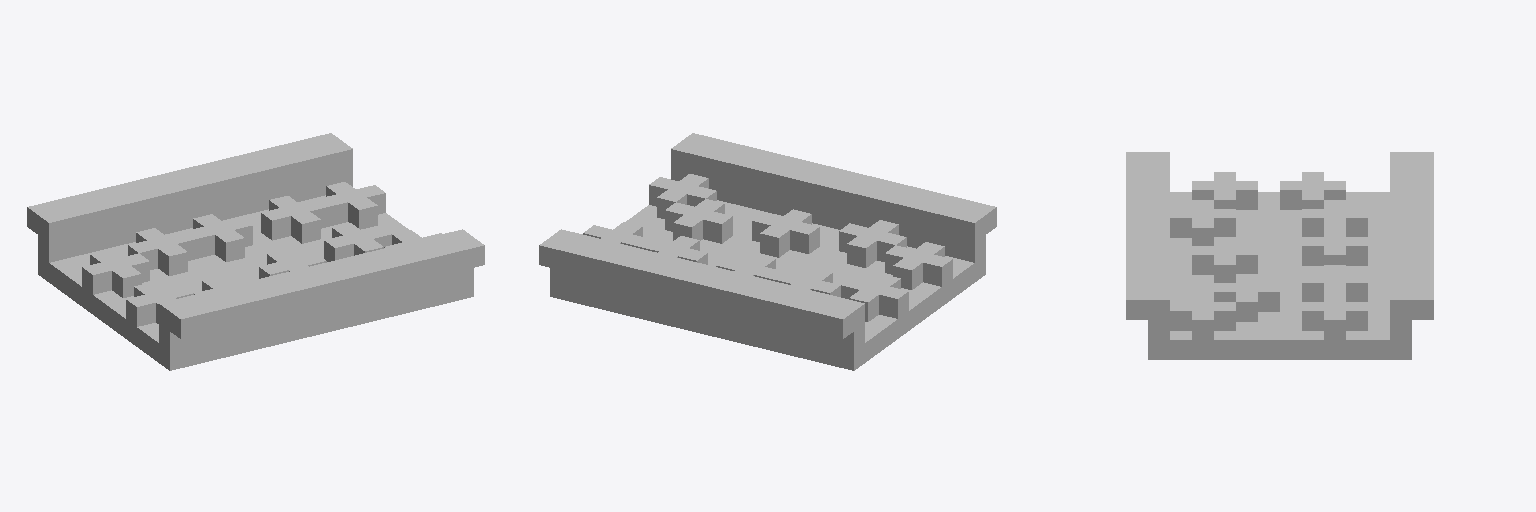
Rendered from Plants_Middle.obj.
3 renders of one model, left to right at view 1: azimuth 30°, elevation 25°; view 2: azimuth 150°, elevation 25°; view 3: azimuth 270°, elevation 25°, orthographic.
Visible parts, largest first — view 1: Plants_Middle; view 2: Plants_Middle; view 3: Plants_Middle.
Part boxes in pixels (x1,y1,x2,y2): Plants_Middle: (27, 133, 484, 370); Plants_Middle: (539, 133, 996, 370); Plants_Middle: (1126, 152, 1433, 359).
Bounding box in the file's own units: 16 × 3 × 14.